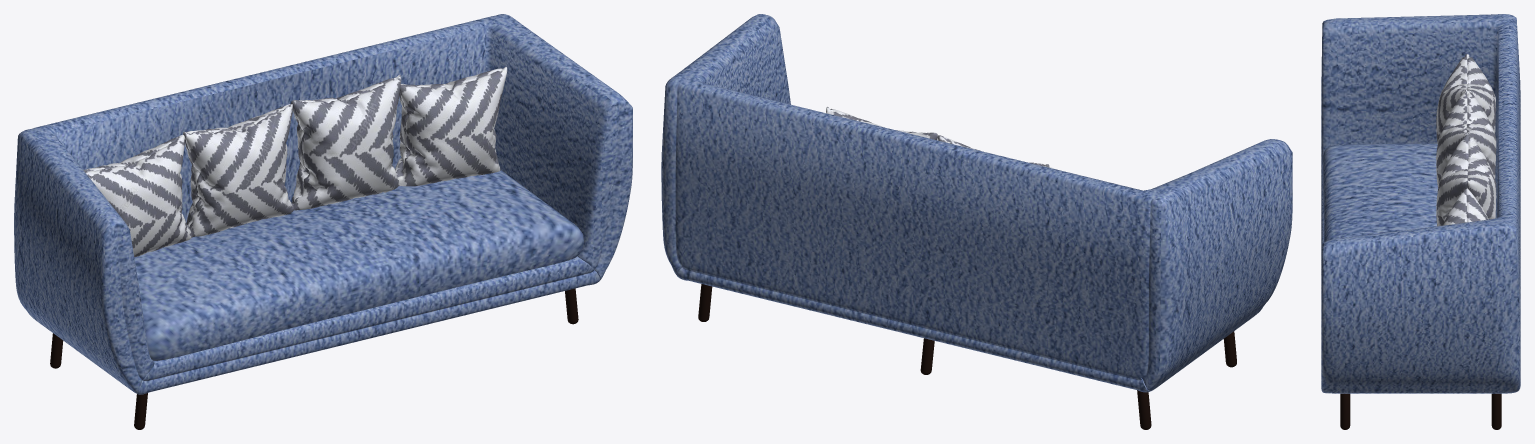
The picture shows the model from 3 angles, left to right: view 1: azimuth 30°, elevation 25°; view 2: azimuth 150°, elevation 25°; view 3: azimuth 270°, elevation 25°; orthographic projection. The views are drawn at different scales.
Parts seen in each view (by area): view 1: couch, seat, pillow_03_geo, Legs_03_geo; view 2: couch, Legs_03_geo, pillow_03_geo; view 3: couch, seat, pillow_03_geo, Legs_03_geo.
Part boxes in pixels (<box>): couch: <box>14,14,632,394</box>; seat: <box>134,170,583,360</box>; pillow_03_geo: <box>83,66,507,257</box>; Legs_03_geo: <box>50,288,578,429</box>; couch: <box>661,14,1292,392</box>; Legs_03_geo: <box>698,284,1236,429</box>; pillow_03_geo: <box>826,107,1054,168</box>; couch: <box>1321,14,1520,393</box>; seat: <box>1322,143,1438,242</box>; pillow_03_geo: <box>1436,54,1496,226</box>; Legs_03_geo: <box>1340,393,1501,429</box>.
Bounding box in the file's own units: 2.09 × 0.8926 × 0.7535.
Materials: 4 (3 with a texture image).
